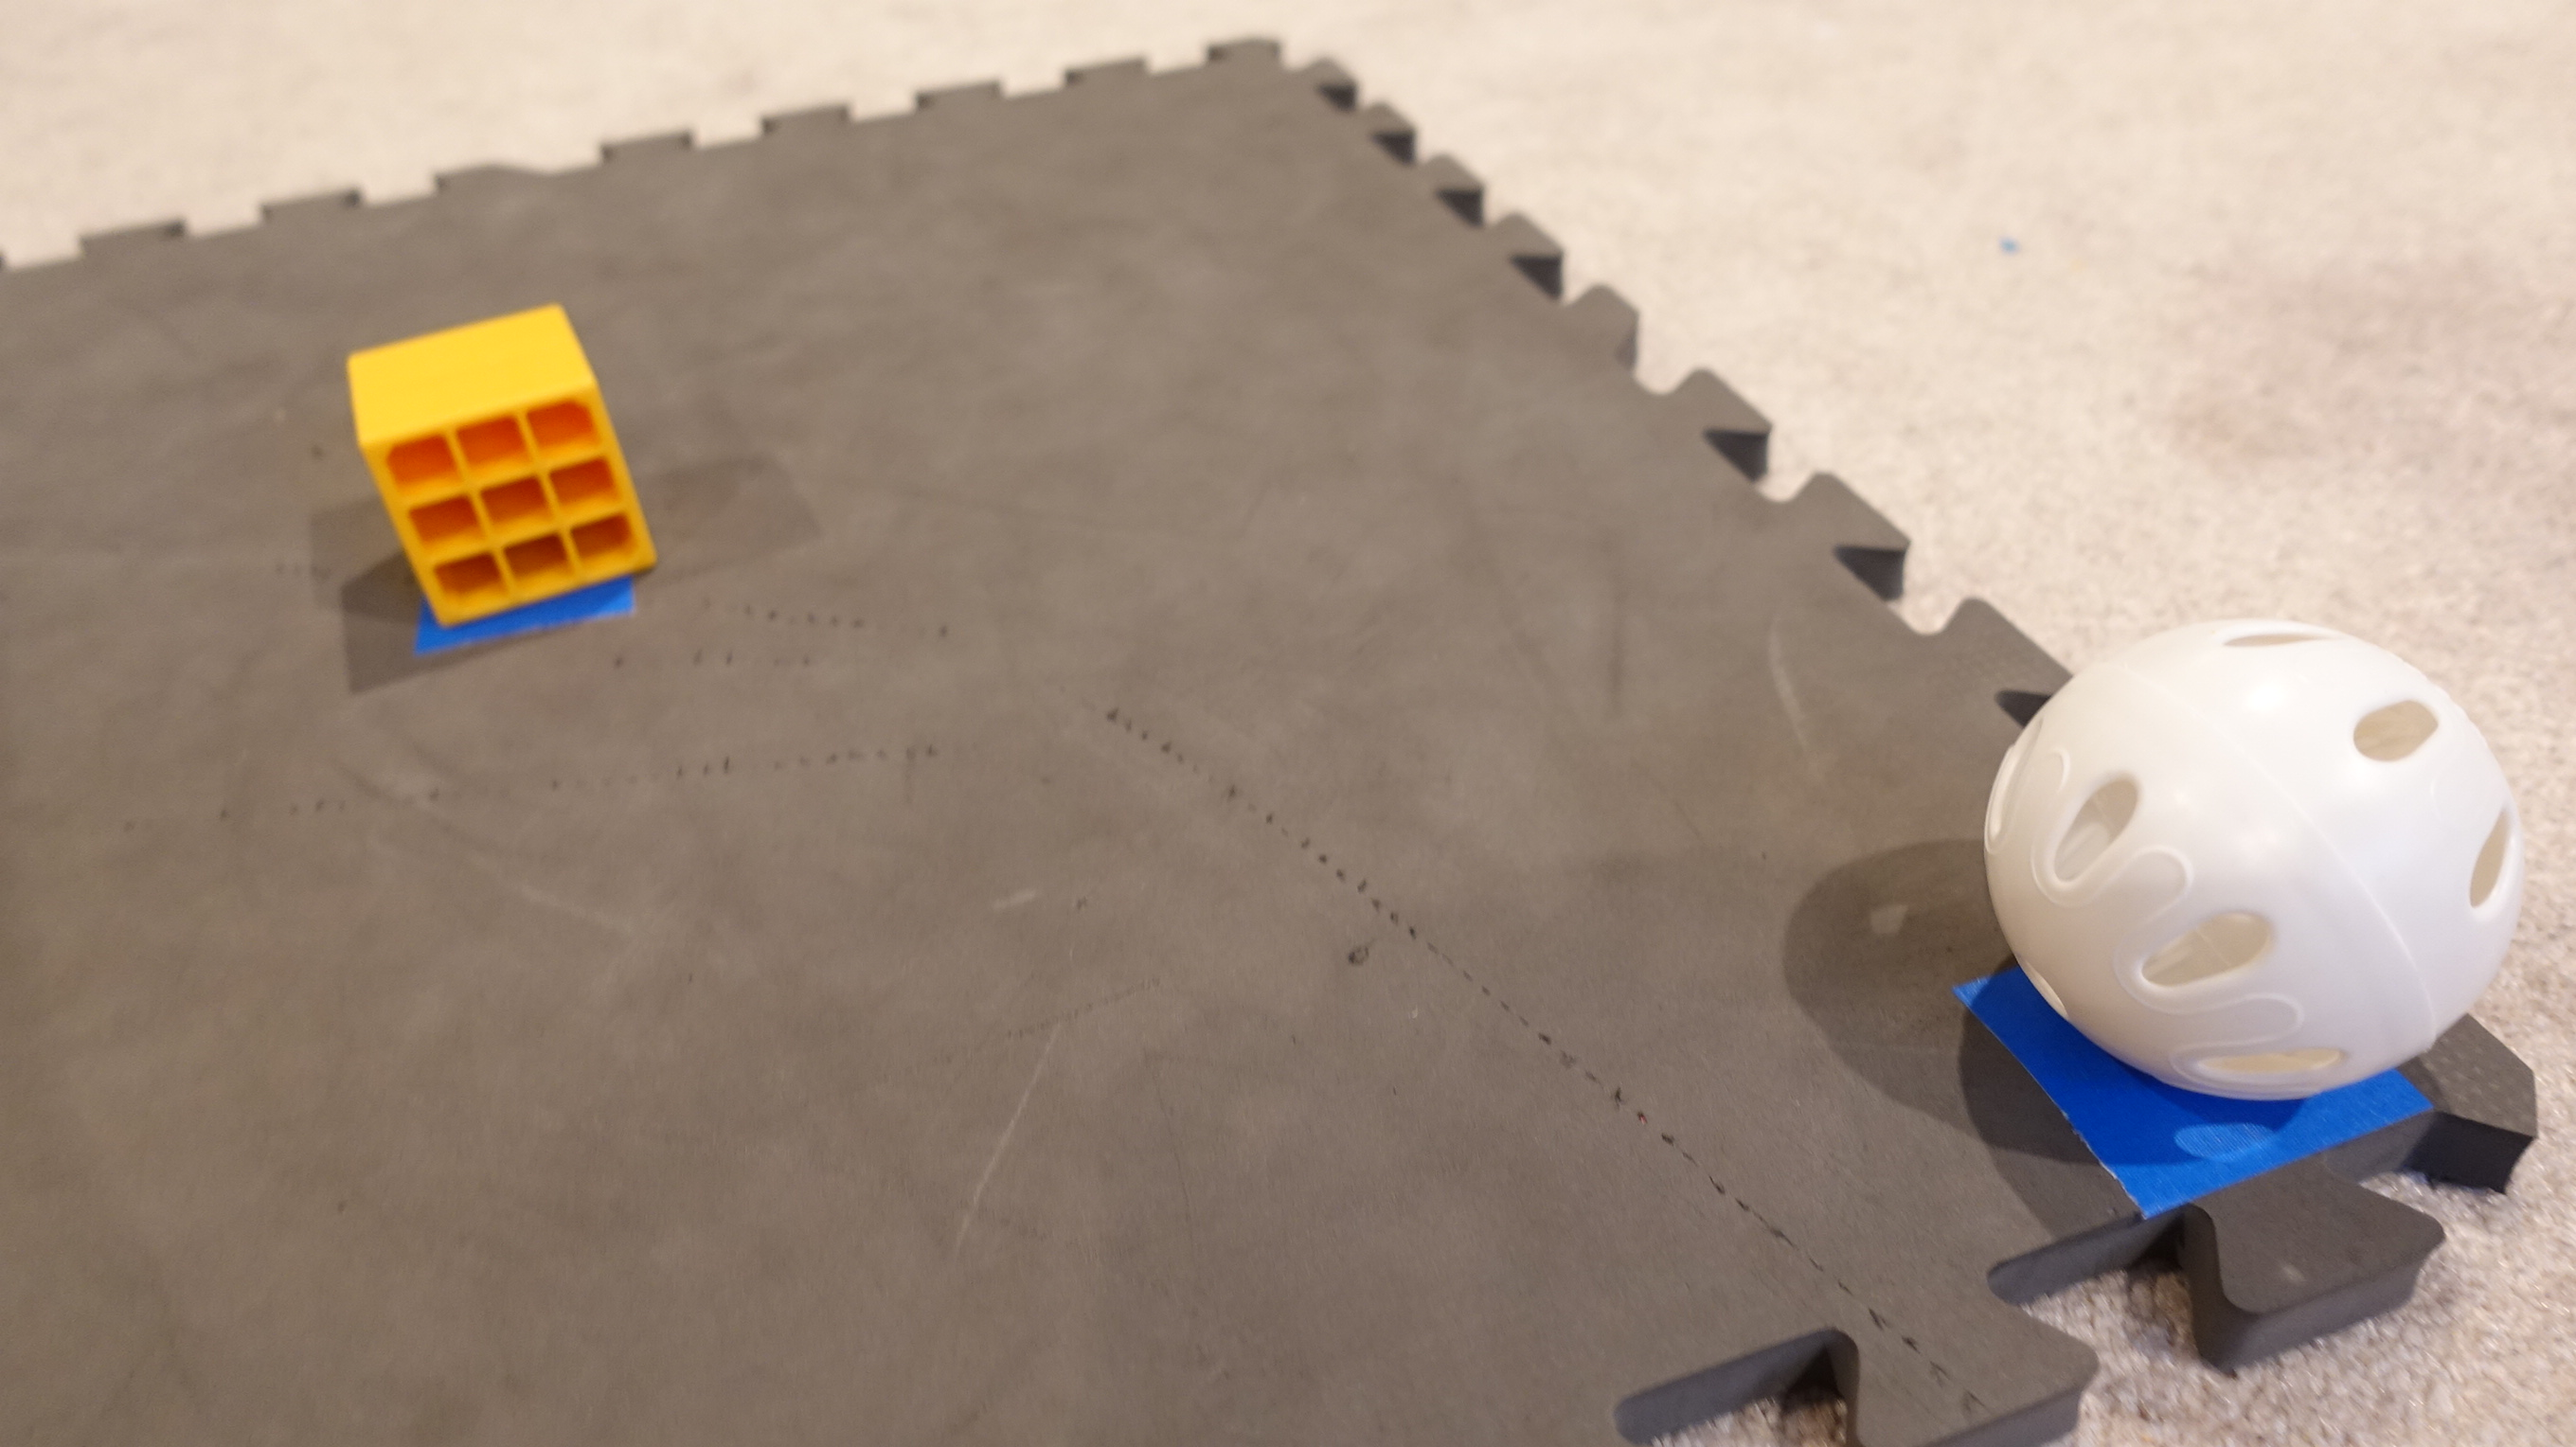gold: (334, 294, 665, 630)
silver: (1974, 605, 2539, 1116)
